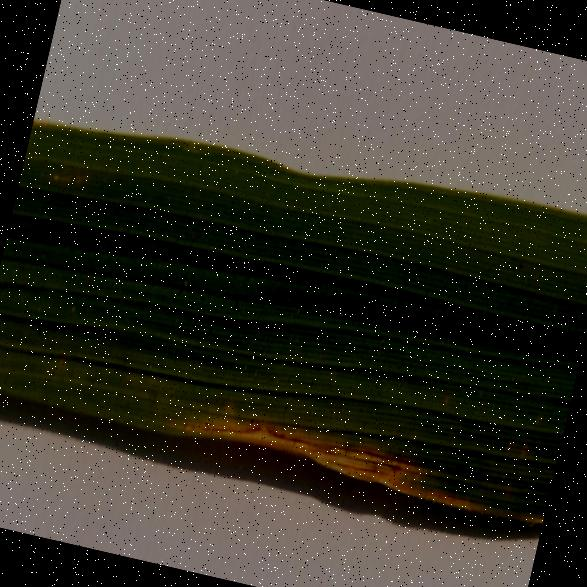Bacteria_Leaf_Blight: (134, 340, 518, 560)
